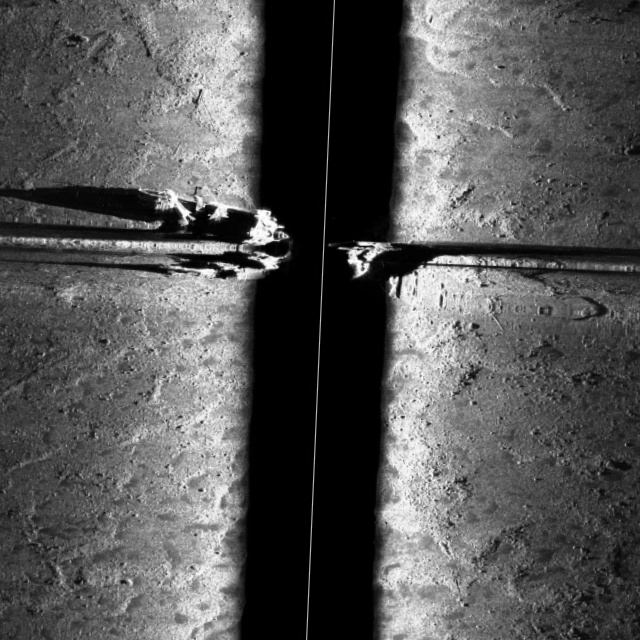Shipwreck: (131, 86, 517, 333)
